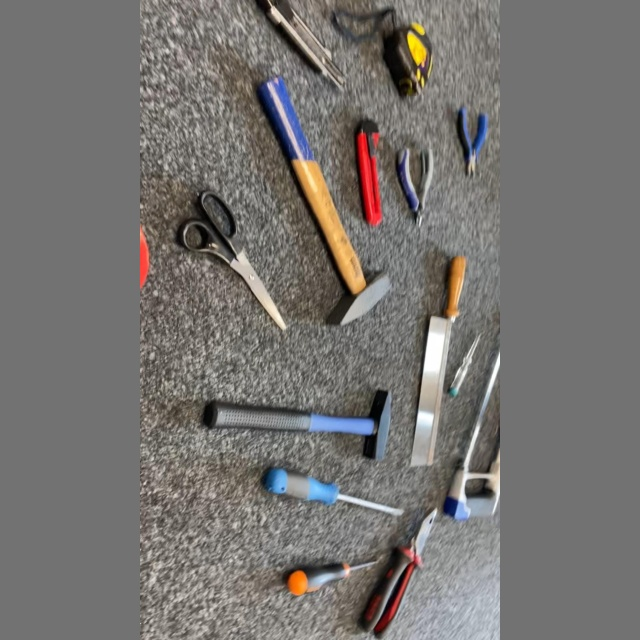scissor: (169, 178, 291, 336)
screwdriver: (254, 464, 410, 521), (282, 555, 383, 602), (445, 328, 486, 401)
